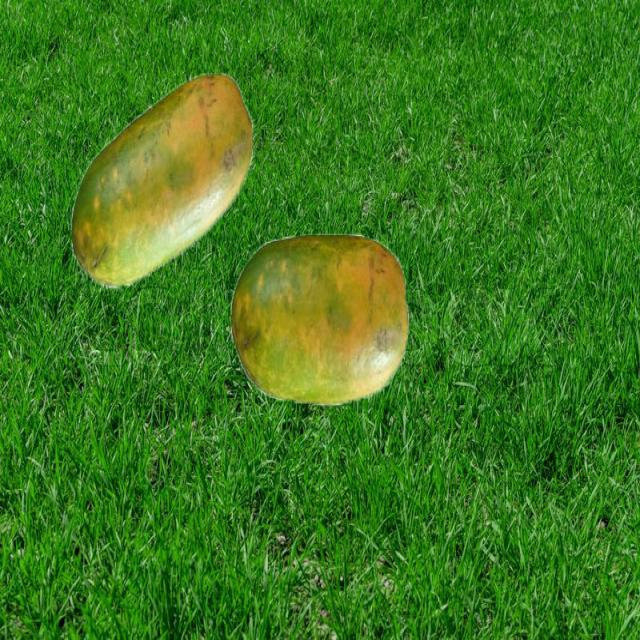Pepaya rippen: (66, 73, 260, 270), (218, 232, 408, 412)
